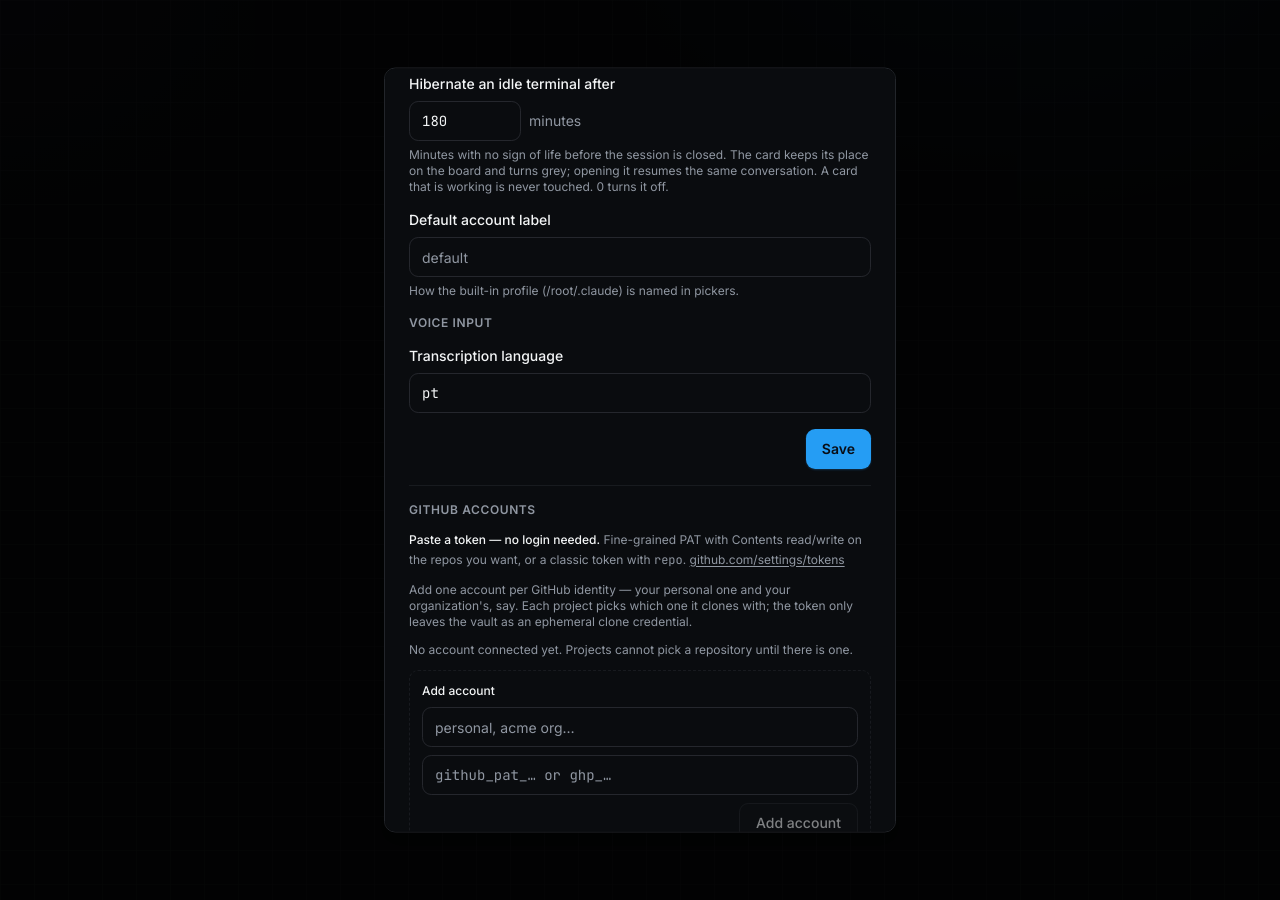
SettingsDialog › shows a refused save INSIDE the form, and clears it on the next attempt
(page scrolled)
Click the button "Save" at (838, 450), box [806,430,871,470]
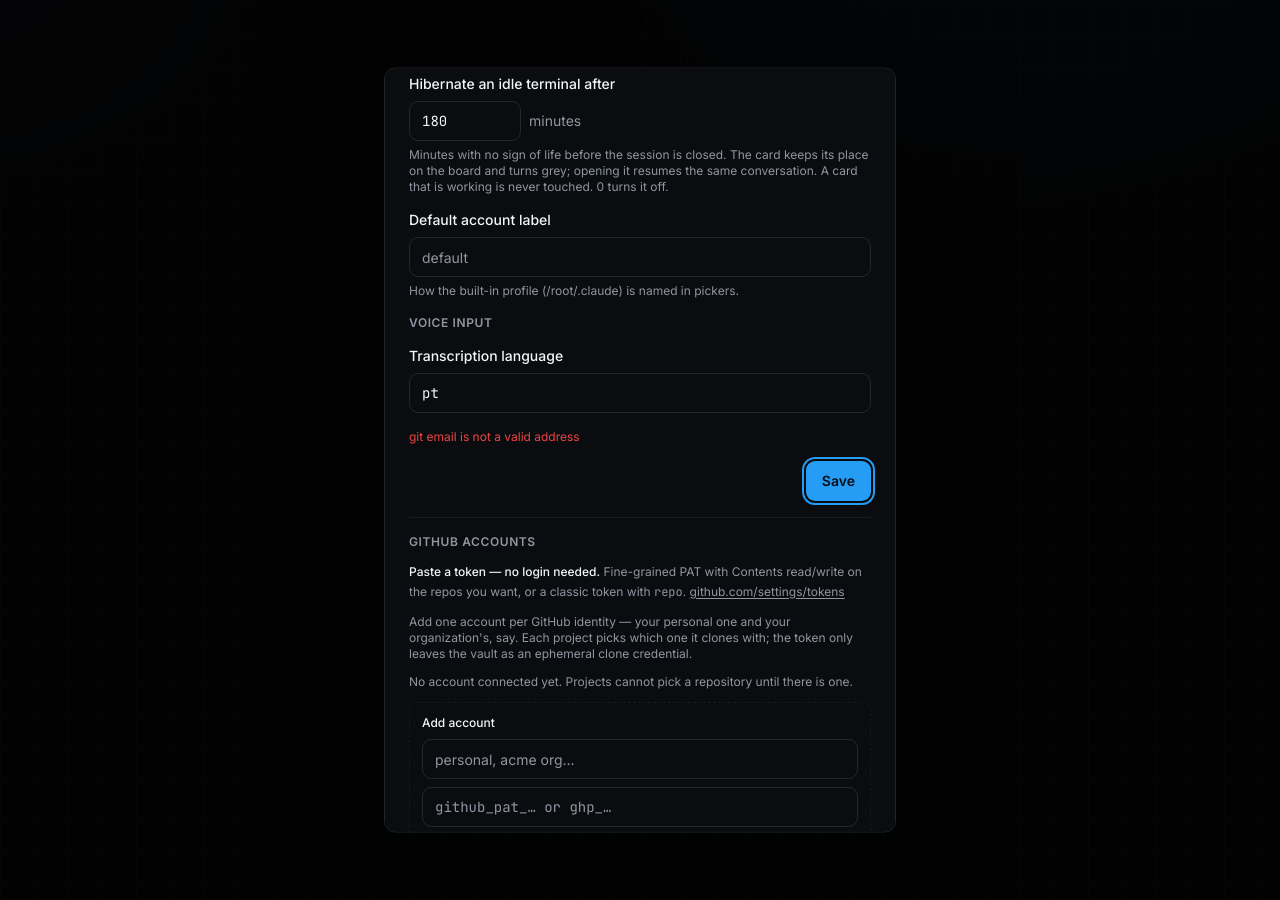
Expected: the message with test id "settings-save-error" reads "git email is not a valid address", [409,430,580,444]
Click the button "Save" at (838, 482), box [806,462,871,502]
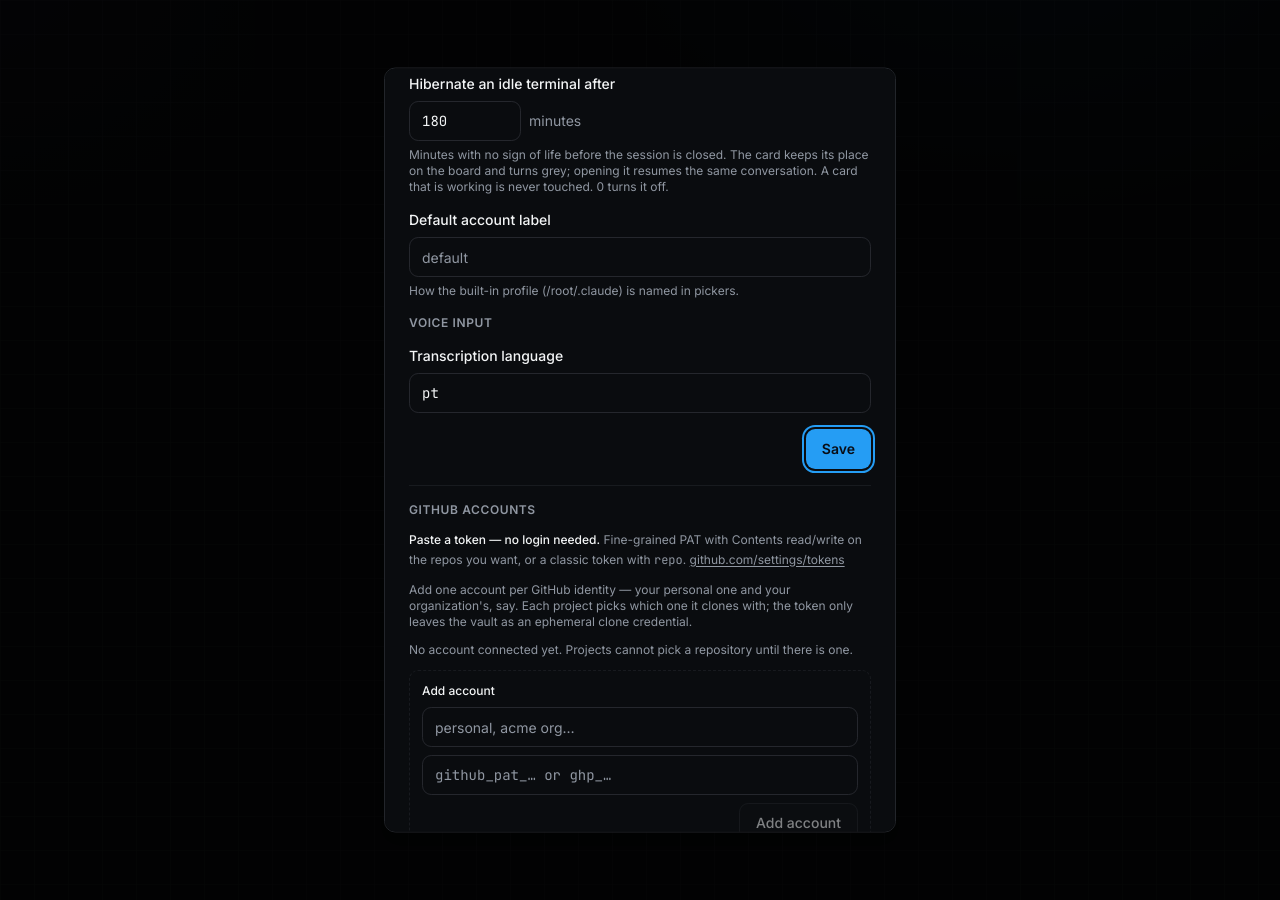
Expected: the message with test id "settings-save-error" is gone
